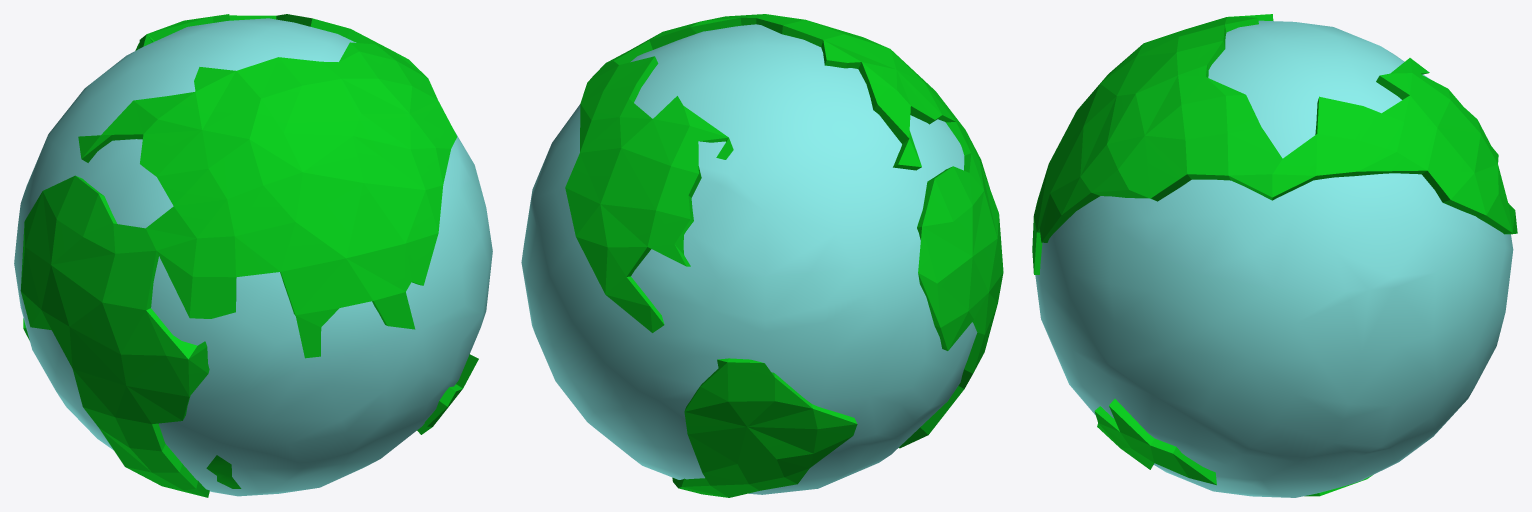
Rendered from earth.glb.
3 renders of one model, left to right at view 1: azimuth 30°, elevation 25°; view 2: azimuth 150°, elevation 25°; view 3: azimuth 270°, elevation 25°, orthographic.
Parts seen in each view (by area): view 1: Earth; view 2: Earth; view 3: Earth.
Part boxes in pixels (x1,y1,x2,y2): Earth: [14, 14, 492, 497]; Earth: [521, 14, 1003, 497]; Earth: [1032, 14, 1517, 497].
Size of the model in its own units: 0.1711 by 0.17 by 0.1714.
Materials: 1 (1 with a texture image).
